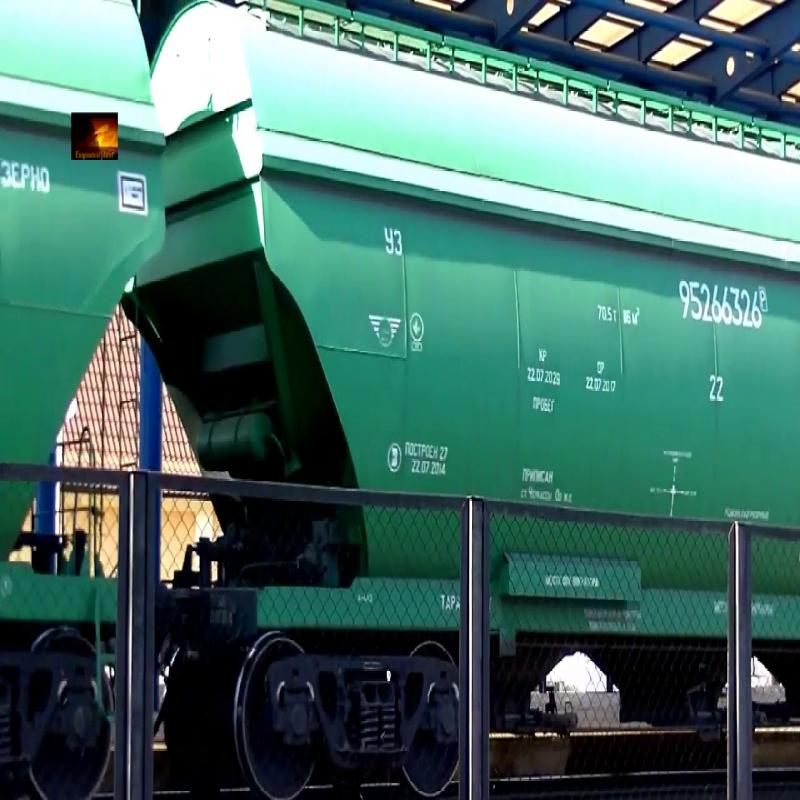train: (171, 1, 800, 770)
